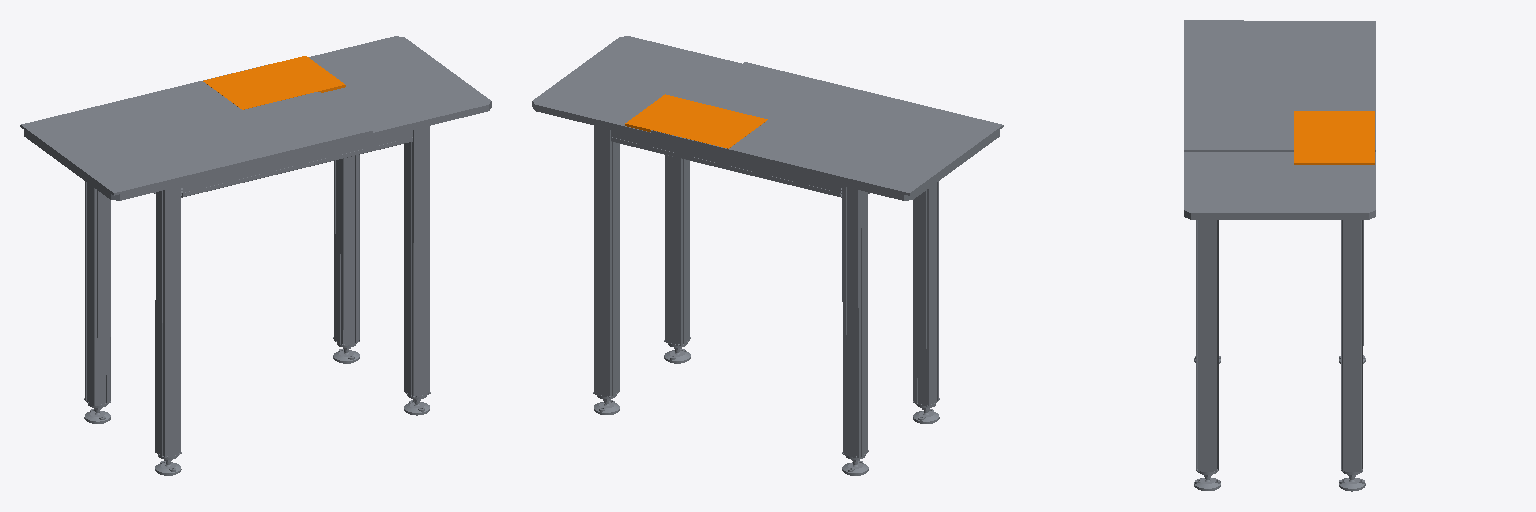
URDF robot description (room315_staubli_table_drop_zone):
<?xml version="1.0"?>
<robot name="room315_staubli_table_drop_zone">
  <material name="staubli_table_gray">
    <color rgba="0.55 0.57 0.60 1"/>
  </material>

  <link name="drop_zone_link">
    <visual>
      <origin xyz="0 0 -0.01" rpy="0 0 0"/>
      <geometry>
        <box size="0.36 0.24 0.02"/>
      </geometry>
      <material name="drop_zone_orange">
        <color rgba="1 0.55 0.05 0.45"/>
      </material>
    </visual>
    <visual>
      <origin xyz="-0.15 -0.16 -0.503" rpy="-1.57 0 1.57"/>
      <geometry>
        <mesh filename="package://mfja_3rd_floor_description/models/staubli_table/meshes/staubli_table.stl"/>
      </geometry>
      <material name="staubli_table_gray"/>
    </visual>
    <collision>
      <origin xyz="-0.15 -0.16 -0.503" rpy="-1.57 0 1.57"/>
      <geometry>
        <mesh filename="package://mfja_3rd_floor_description/models/staubli_table/meshes/staubli_table.stl"/>
      </geometry>
    </collision>
  </link>
</robot>

--- Render facts (derived) ---
3 views of the same robot in one strip: view 1: azimuth 30°, elevation 25°; view 2: azimuth 150°, elevation 25°; view 3: azimuth 270°, elevation 25° (orthographic).
Robot: room315_staubli_table_drop_zone — 1 links, 0 joints (none); root link drop_zone_link; default pose: all joints at 0.
Links seen in each view (by area): view 1: drop_zone_link; view 2: drop_zone_link; view 3: drop_zone_link.
Link boxes in pixels (x1,y1,x2,y2): drop_zone_link: (20,36,491,475); drop_zone_link: (532,36,1003,475); drop_zone_link: (1184,20,1375,491).
Bounding box of the posed robot: 1.33 × 0.566 × 1.01 m (x, y, z).
Meshes: 1 distinct files referenced, 1 mesh visuals loaded (1 binary STL).
